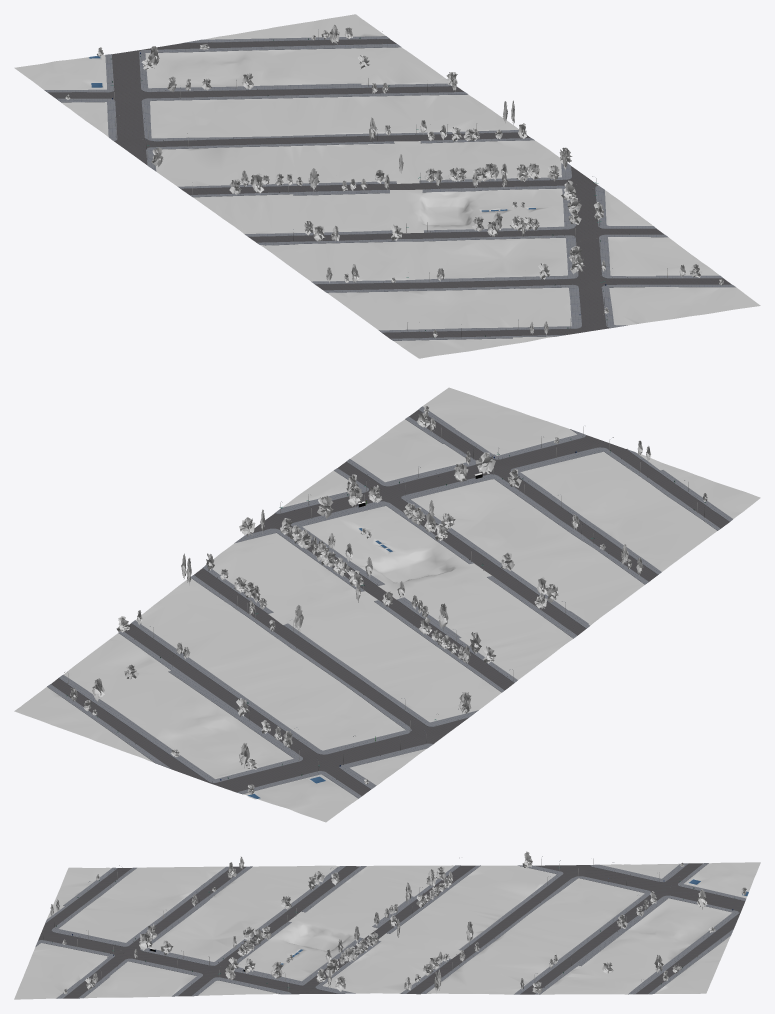
3 views of the same model, one above another, from view 1: azimuth 30°, elevation 25°; view 2: azimuth 150°, elevation 25°; view 3: azimuth 270°, elevation 25° (orthographic). The views are drawn at different scales.
Visible parts, largest first — view 1: geopipeinodeC5LH1adO, geopipeinodenB0NPW81, geopipeinodeauVcp-0T, geopipeinodeUrxERa9A, geopipeinodeZYuBakhZ, geopipeinodeFba8bonq; view 2: geopipeinodeC5LH1adO, geopipeinodenB0NPW81, geopipeinodeUrxERa9A, geopipeinodeauVcp-0T, geopipeinodeFba8bonq, geopipeinodeZYuBakhZ; view 3: geopipeinodeC5LH1adO, geopipeinodenB0NPW81, geopipeinodeUrxERa9A, geopipeinodeauVcp-0T, geopipeinodeZYuBakhZ, geopipeinodeFba8bonq.
Boxes of the visible parts, x1,y1,x2,y2 form: geopipeinodeC5LH1adO: (14, 14, 557, 213); geopipeinodenB0NPW81: (217, 156, 760, 358); geopipeinodeauVcp-0T: (248, 166, 731, 338); geopipeinodeUrxERa9A: (48, 39, 530, 194); geopipeinodeZYuBakhZ: (244, 163, 735, 340); geopipeinodeFba8bonq: (44, 36, 534, 197); geopipeinodeC5LH1adO: (14, 545, 542, 822); geopipeinodenB0NPW81: (232, 387, 760, 660); geopipeinodeUrxERa9A: (51, 568, 514, 795); geopipeinodeauVcp-0T: (246, 410, 729, 635); geopipeinodeFba8bonq: (47, 565, 517, 798); geopipeinodeZYuBakhZ: (234, 406, 732, 638); geopipeinodeC5LH1adO: (360, 862, 760, 994); geopipeinodenB0NPW81: (14, 865, 414, 999); geopipeinodeUrxERa9A: (386, 863, 745, 994); geopipeinodeauVcp-0T: (38, 866, 390, 998); geopipeinodeZYuBakhZ: (35, 866, 394, 998); geopipeinodeFba8bonq: (386, 863, 746, 994).
Bounding box in the file's own units: 255 × 594 × 31.72.
